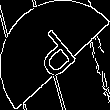P_SE: (26, 24, 84, 86)
